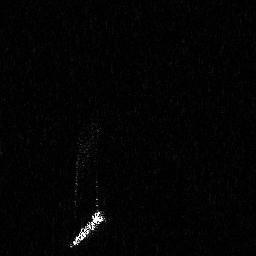ship: (66, 208, 109, 248)
